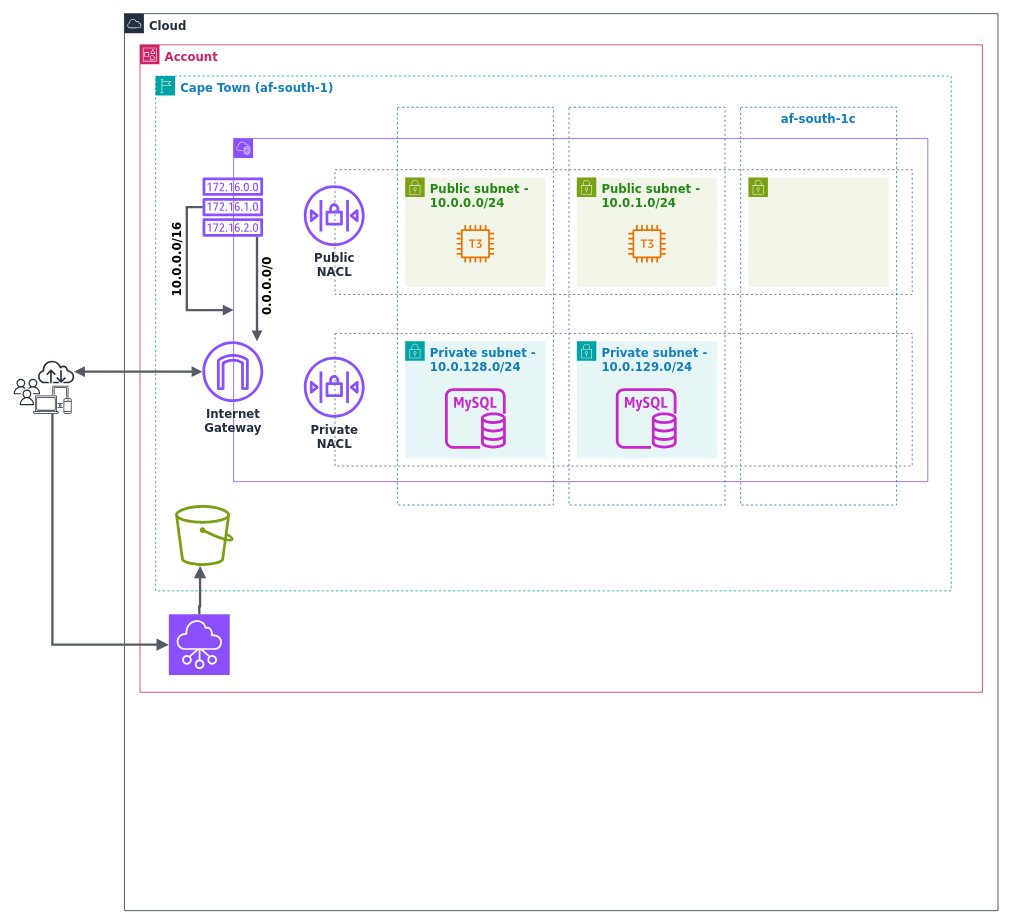
Image size: 1012x924. Some labels were removed from this diagram. Each missing label, with the box of its shape:
af-south-1a: (397, 106, 553, 505)
af-south-1b: (568, 106, 725, 505)
Public Internet: (33, 385, 71, 413)
Public subnet - 10.0.2.0/24: (748, 177, 889, 287)
Route Table: (202, 177, 263, 236)
VPC - 10.0.0.0/16: (233, 138, 928, 482)
